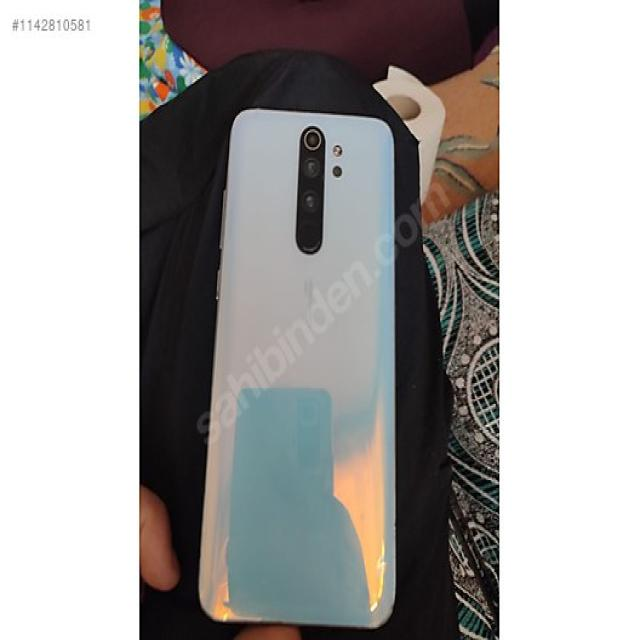Red Mi Note 8 Pro: (198, 110, 398, 632)
